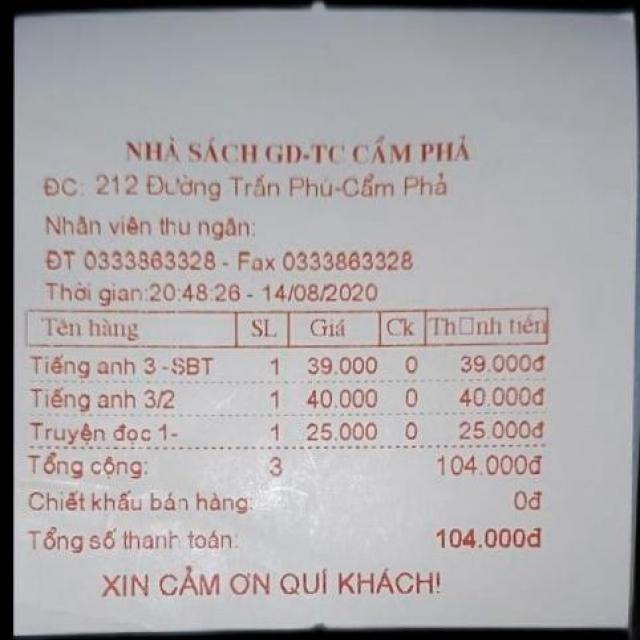Store_Name: (99, 127, 491, 170)
Total_Amount: (1, 521, 558, 559)
